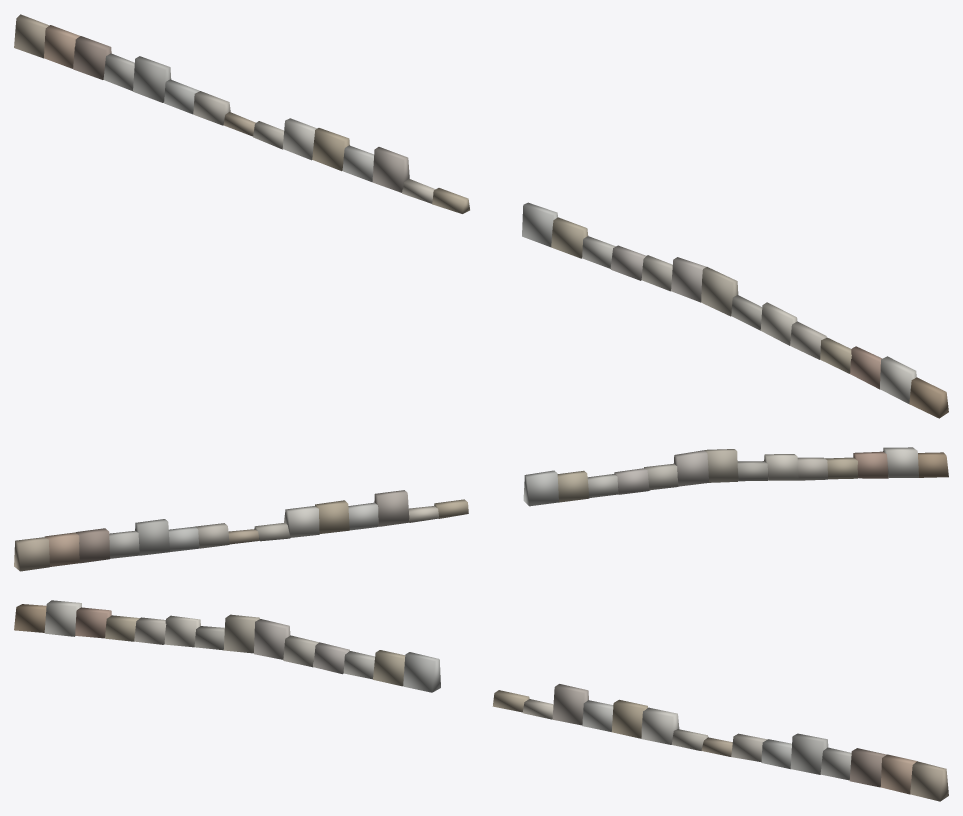
The model's file is farm_-34_-24_far.glb.
The picture shows the model from 3 angles, top to bottom: view 1: azimuth 90°, elevation 25°; view 2: azimuth 150°, elevation 25°; view 3: azimuth 270°, elevation 25°; orthographic projection. The views are drawn at different scales.
Visible parts, largest first — view 1: geometry_0; view 2: geometry_0; view 3: geometry_0.
Boxes of the visible parts, <box> form: geometry_0: <box>14,14,948,418</box>; geometry_0: <box>14,447,948,571</box>; geometry_0: <box>14,600,948,801</box>.
Bounding box in the file's own units: 28.23 × 6.14 × 40.34.
